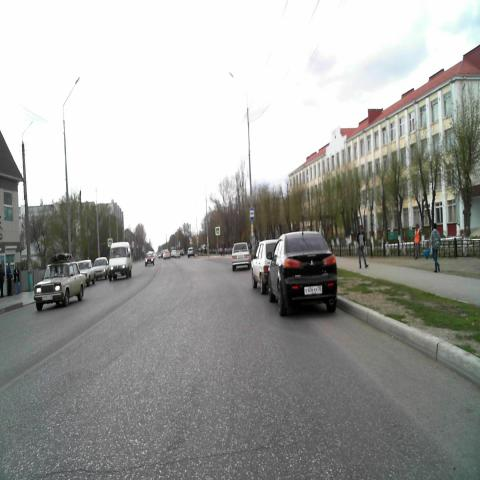5_16: (250, 206, 255, 220)
5_19_1: (107, 237, 112, 246), (216, 226, 220, 236)
